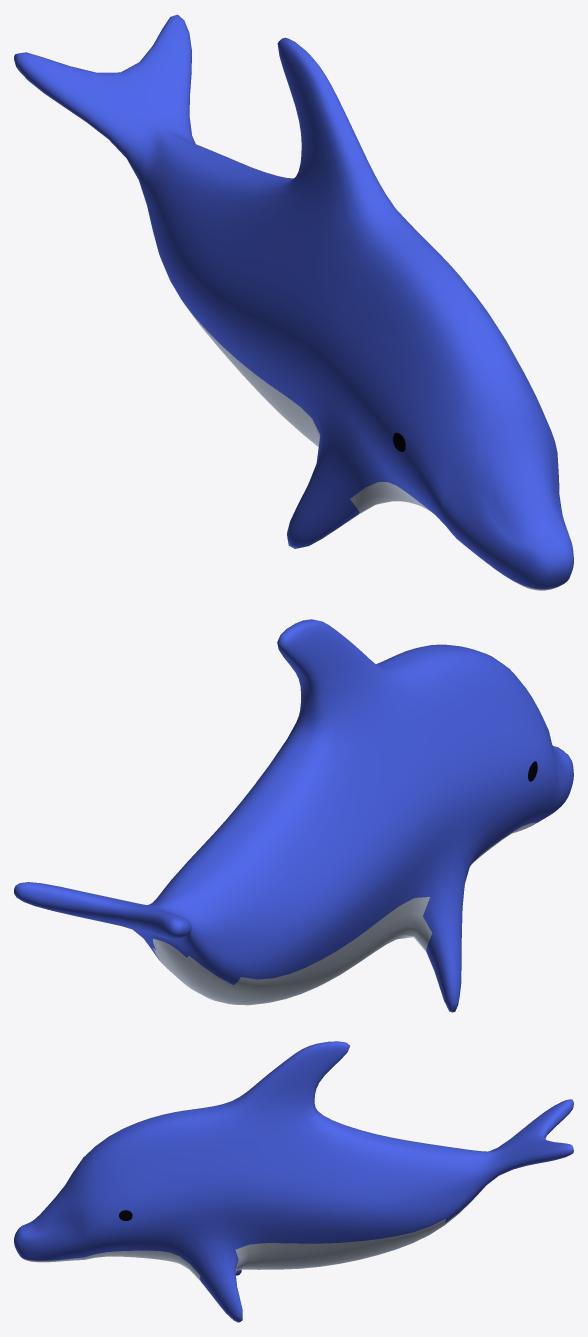
File: doll_dolphin.fbx
3 views of the same model, one above another, from view 1: azimuth 30°, elevation 25°; view 2: azimuth 150°, elevation 25°; view 3: azimuth 270°, elevation 25° (orthographic). The views are drawn at different scales.
Parts seen in each view (by area): view 1: Cube.003; view 2: Cube.003; view 3: Cube.003.
Part boxes in pixels (left/top/right/bottom): Cube.003: left=14, top=14, right=573, bottom=590; Cube.003: left=14, top=619, right=573, bottom=1012; Cube.003: left=14, top=1041, right=573, bottom=1322.
Size of the model in its own units: 89.1 by 215 by 422.
